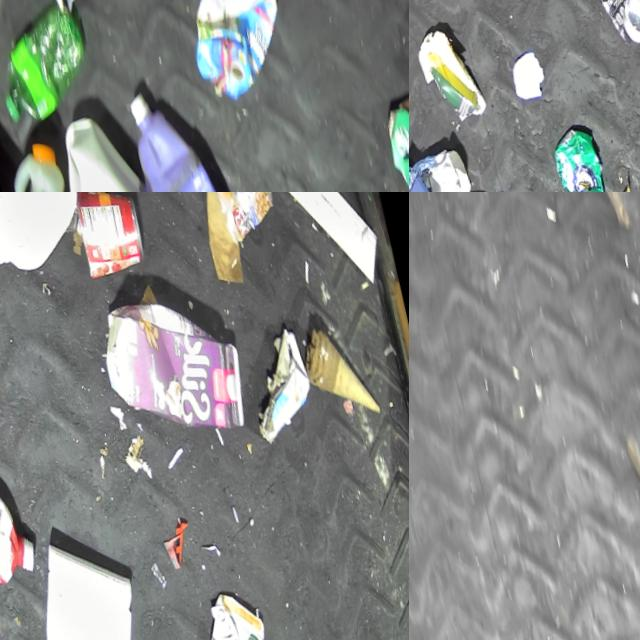can: (68, 192, 151, 279), (548, 119, 618, 192), (198, 192, 283, 245), (580, 0, 640, 47)
milk_jug: (38, 99, 209, 192), (0, 192, 99, 280), (0, 139, 114, 192)
non_white_jug: (92, 273, 256, 451), (0, 425, 45, 600), (188, 577, 294, 640)
plastic_bottle: (0, 0, 98, 130)
